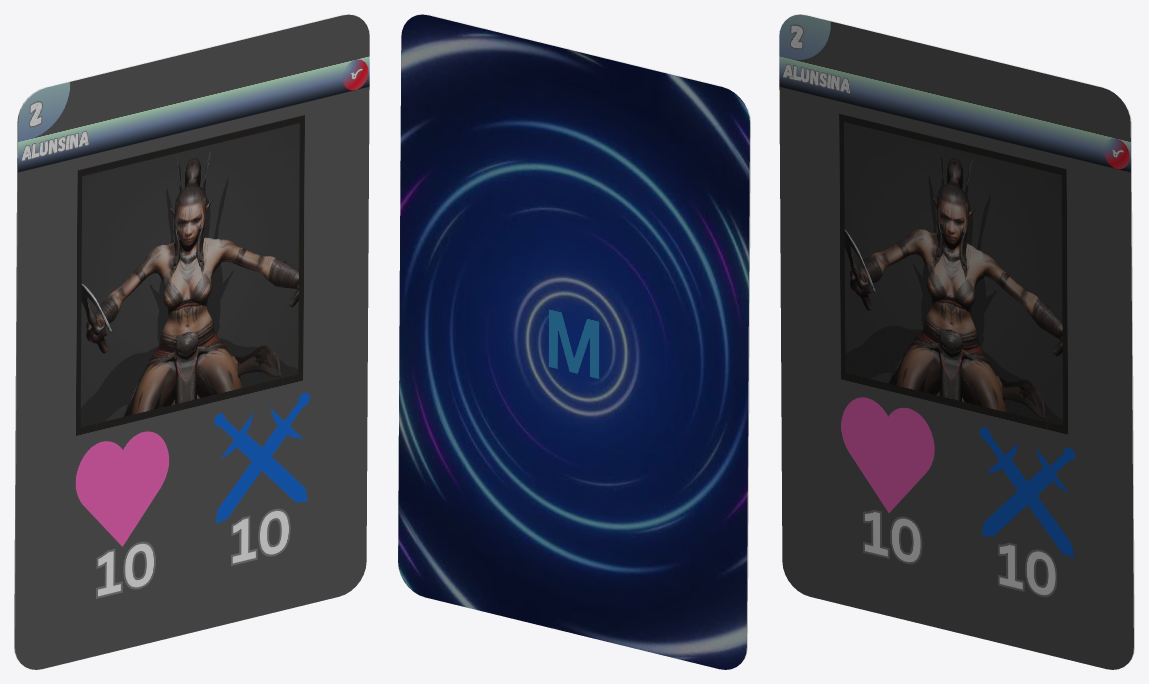
File: Alunsina.glb
3 views of the same model, side by side, from view 1: azimuth 30°, elevation 25°; view 2: azimuth 150°, elevation 25°; view 3: azimuth 330°, elevation 25° (orthographic).
Visible parts, largest first — view 1: Card; view 2: Card; view 3: Card.
Part boxes in pixels (x1,y1,x2,y2): Card: (14,14,369,669); Card: (398,14,750,669); Card: (779,14,1134,669).
Bounding box in the file's own units: 0.056 × 0.0889 × 0.00122.
3 materials, 2 textured.
